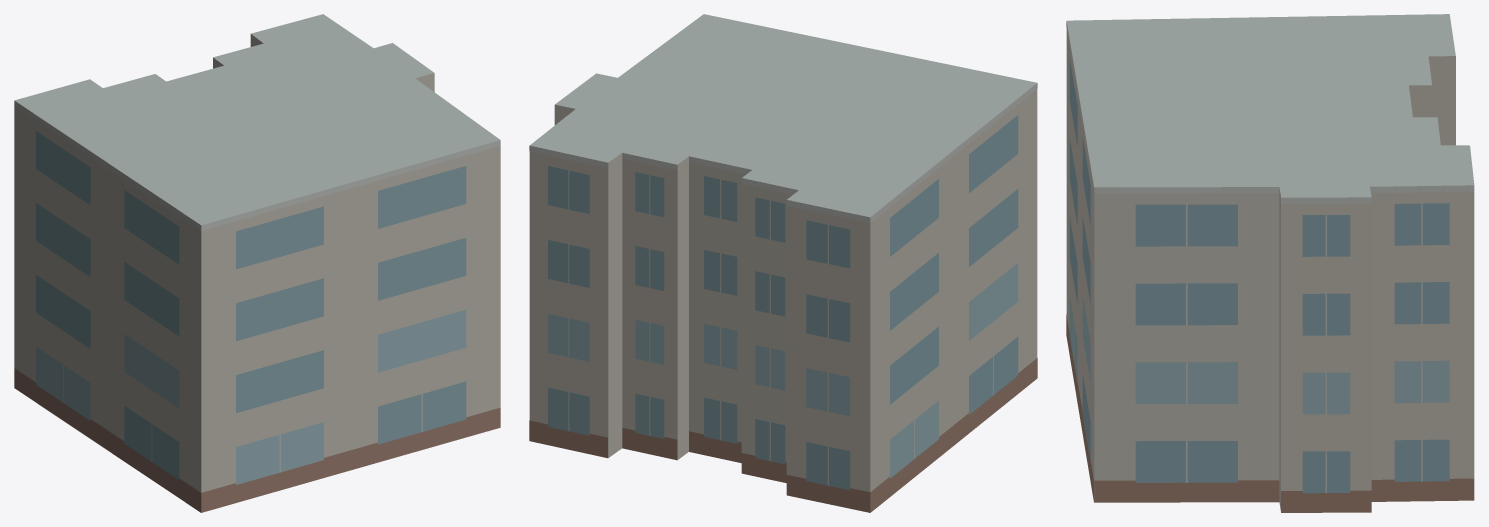
The model's file is survey-upis-33019679.glb.
The picture shows the model from 3 angles, left to right: view 1: azimuth 30°, elevation 25°; view 2: azimuth 150°, elevation 25°; view 3: azimuth 270°, elevation 25°; orthographic projection. The views are drawn at different scales.
Parts seen in each view (by area): view 1: survey-upis-33019679.tmp; view 2: survey-upis-33019679.tmp; view 3: survey-upis-33019679.tmp.
Boxes of the visible parts, x1=… form: survey-upis-33019679.tmp: x1=14, y1=14, x2=500, y2=512; survey-upis-33019679.tmp: x1=529, y1=14, x2=1037, y2=512; survey-upis-33019679.tmp: x1=1066, y1=14, x2=1474, y2=512.
Size of the model in its own units: 15.2 by 12.15 by 14.26.
